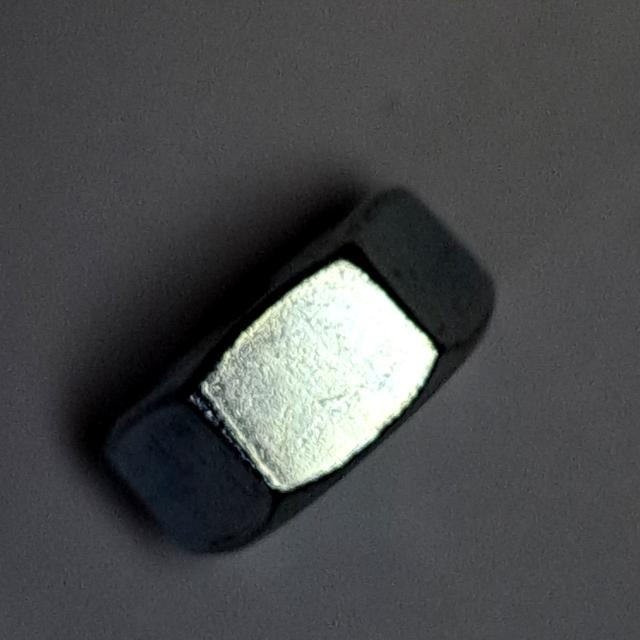Side_Excellent: (87, 175, 513, 567)
